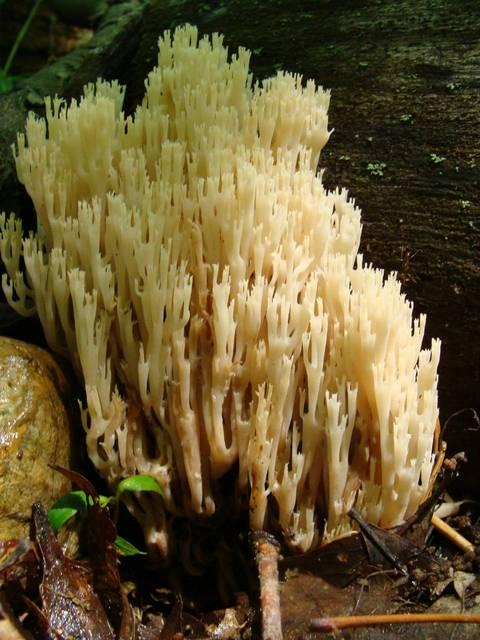Edible Mushroom: (14, 21, 447, 512)
